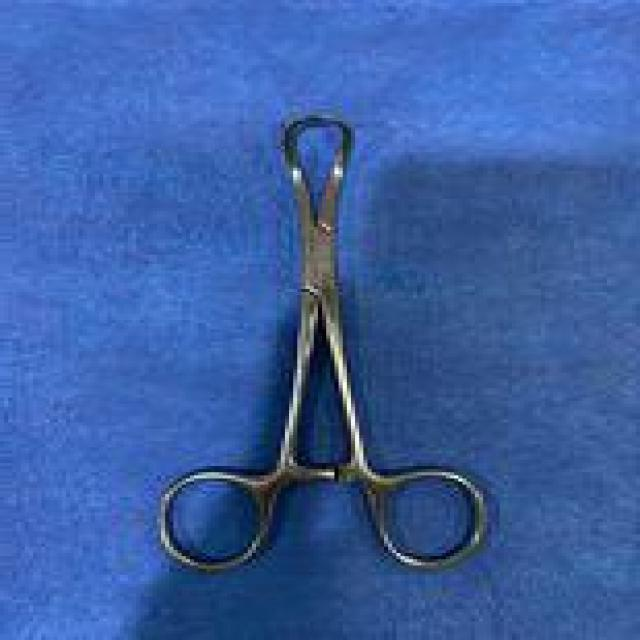Towel_clip: (148, 109, 496, 581)
